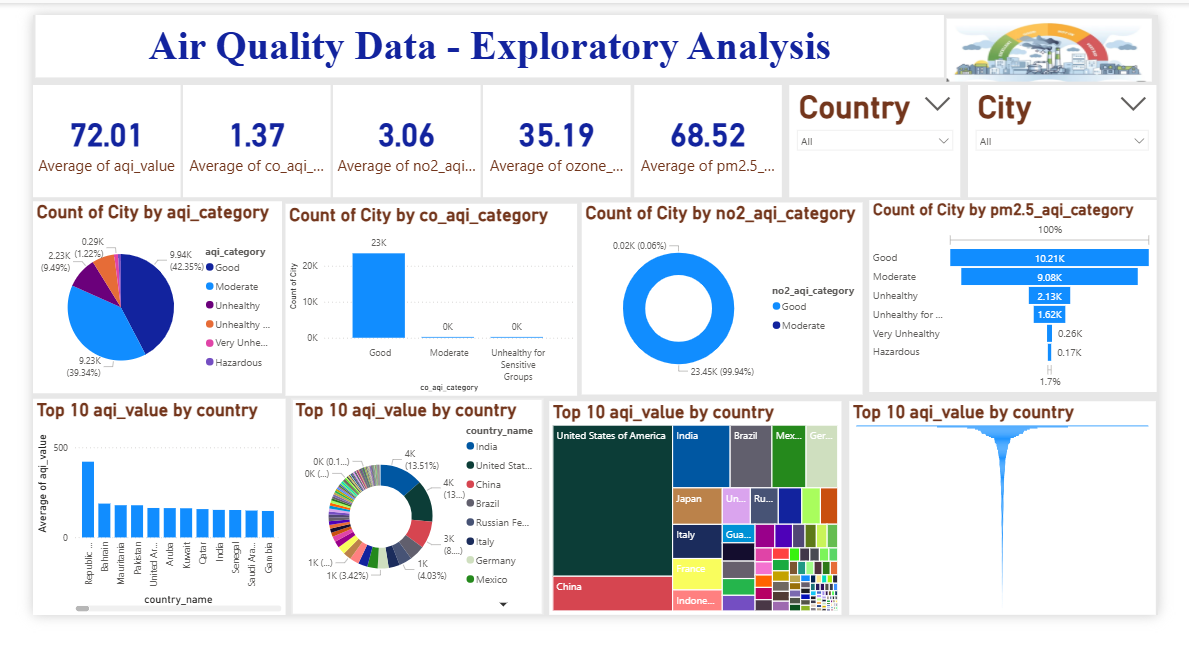

What the dashboard file says about the page in this screenshot:
{"tool":"powerbi","page":{"name":"Page 1","canvas":[1500,800],"ordinal":0},"visuals":[{"type":"textbox","box":[3.6,0,1211.5,82.9],"z":0},{"type":"image","box":[1214.1,0,283.4,94],"z":1000},{"type":"card","fields":{"Values":["Avg(Air Quality.aqi_value)"]},"box":[0,92.9,196.6,149.6],"z":2000},{"type":"card","fields":{"Values":["Avg(Air Quality.co_aqi_value)"]},"box":[200.3,92.9,196.6,149.6],"z":3000},{"type":"card","fields":{"Values":["Avg(Air Quality.no2_aqi_value)"]},"box":[400.5,92.9,196.6,149.6],"z":4000},{"type":"card","fields":{"Values":["Avg(Air Quality.ozone_aqi_value)"]},"box":[600.8,92.9,196.6,149.6],"z":5000},{"type":"card","fields":{"Values":["Avg(Air Quality.pm2.5_aqi_value)"]},"box":[802.3,92.9,196.6,149.6],"z":6000},{"type":"pieChart","fields":{"Category":["Air Quality.aqi_category"],"Y":["CountNonNull(Air Quality.City)"]},"box":[0,248.8,331.7,256],"z":7000},{"type":"clusteredColumnChart","fields":{"Category":["Air Quality.co_aqi_category"],"Y":["CountNonNull(Air Quality.City)"]},"box":[336.1,250.9,389.2,255.7],"z":8000},{"type":"slicer","fields":{"Values":["Air Quality.country_name"]},"box":[1008.3,93.3,228.3,149.6],"z":9000},{"type":"slicer","fields":{"Values":["Air Quality.City"]},"box":[1246.3,93.3,250.9,149.6],"z":10000},{"type":"donutChart","fields":{"Y":["CountNonNull(Air Quality.City)"],"Category":["Air Quality.no2_aqi_category"]},"box":[731.7,249.3,374.7,255.7],"z":11000},{"type":"funnel","fields":{"Y":["CountNonNull(Air Quality.City)"],"Category":["Air Quality.pm2.5_aqi_category"]},"box":[1114.6,246.6,382.9,256.2],"z":12000},{"type":"columnChart","title":" Top 10 aqi_value by country","fields":{"Y":["Avg(Air Quality.aqi_value)"],"Category":["Air Quality.country_name"]},"box":[0,511,336.6,288.9],"z":13000},{"type":"donutChart","title":" Top 10 aqi_value by country","fields":{"Category":["Air Quality.country_name"],"Y":["Sum(Air Quality.co_aqi_value)"]},"box":[344.8,512.4,335.2,287.5],"z":14000},{"type":"treemap","title":" Top 10 aqi_value by country","fields":{"Group":["Air Quality.country_name"],"Values":["Sum(Air Quality.no2_aqi_value)"]},"box":[688.1,515.1,389.7,284.8],"z":15000},{"type":"funnel","title":" Top 10 aqi_value by country","fields":{"Category":["Air Quality.country_name"],"Y":["Sum(Air Quality.pm2.5_aqi_value)"]},"box":[1088.8,515.1,408.8,284.8],"z":16000}]}

Visuals, with their boxes on the page's 1500x800 design canvas (x1, y1, x2, y2). These are canvas units, not pixel positions in the 1189x665 screenshot, which may show the page scaled, cropped or inside an application window:
textbox: [4, 0, 1215, 83]
image: [1214, 0, 1498, 94]
card - Avg(Air Quality.aqi_value): [0, 93, 197, 242]
card - Avg(Air Quality.co_aqi_value): [200, 93, 397, 242]
card - Avg(Air Quality.no2_aqi_value): [400, 93, 597, 242]
card - Avg(Air Quality.ozone_aqi_value): [601, 93, 797, 242]
card - Avg(Air Quality.pm2.5_aqi_value): [802, 93, 999, 242]
pieChart - Air Quality.aqi_category x CountNonNull(Air Quality.City): [0, 249, 332, 505]
clusteredColumnChart - Air Quality.co_aqi_category x CountNonNull(Air Quality.City): [336, 251, 725, 507]
slicer - Air Quality.country_name: [1008, 93, 1237, 243]
slicer - Air Quality.City: [1246, 93, 1497, 243]
donutChart - CountNonNull(Air Quality.City) x Air Quality.no2_aqi_category: [732, 249, 1106, 505]
funnel - CountNonNull(Air Quality.City) x Air Quality.pm2.5_aqi_category: [1115, 247, 1498, 503]
" Top 10 aqi_value by country" columnChart: [0, 511, 337, 800]
" Top 10 aqi_value by country" donutChart: [345, 512, 680, 800]
" Top 10 aqi_value by country" treemap: [688, 515, 1078, 800]
" Top 10 aqi_value by country" funnel: [1089, 515, 1498, 800]
